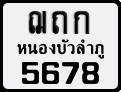letters: (26, 9, 48, 35), (21, 60, 40, 86), (41, 60, 60, 85), (81, 61, 101, 84), (61, 61, 80, 85), (51, 10, 69, 35), (73, 10, 91, 35)
province: (15, 38, 105, 60)
